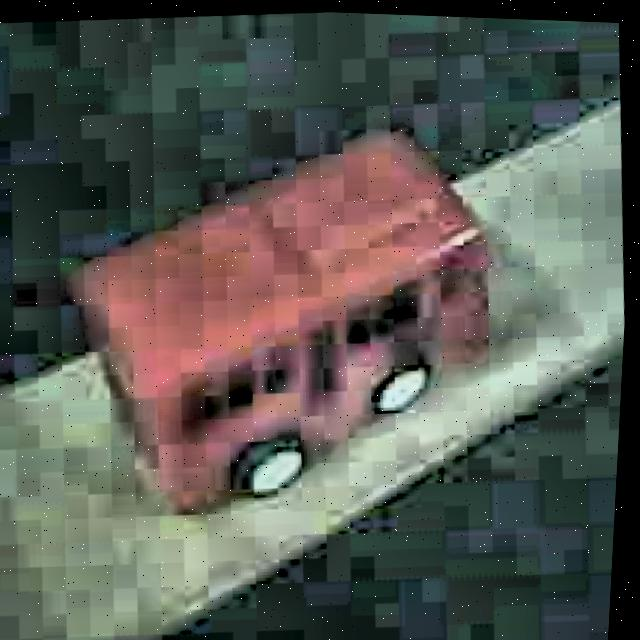bus: (61, 112, 517, 536)
